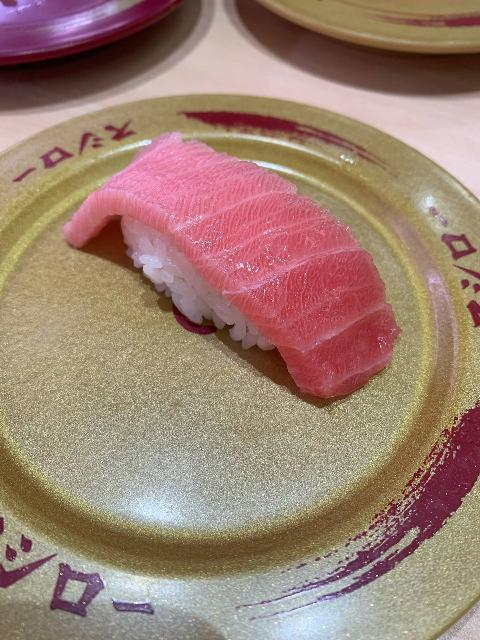jangold: (0, 111, 480, 599), (240, 0, 480, 74)
janred: (0, 0, 211, 50)
